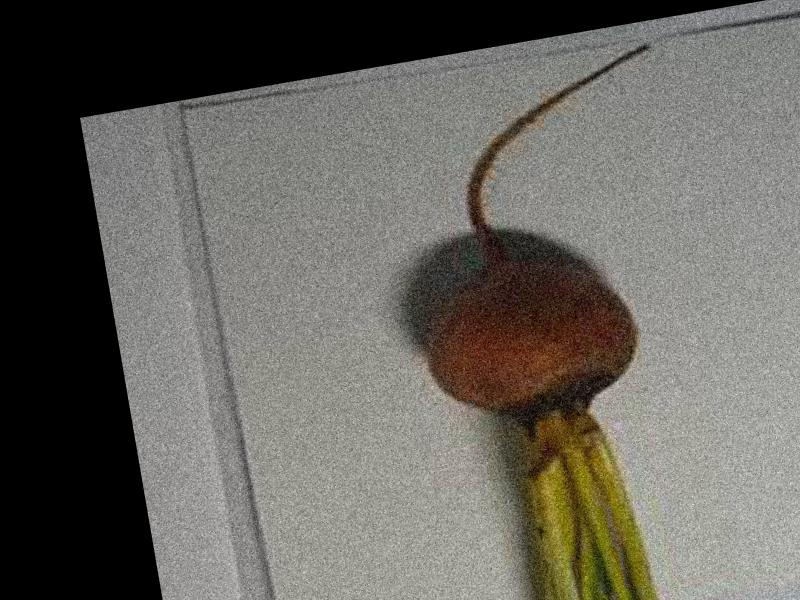Beet: (382, 44, 743, 600)
